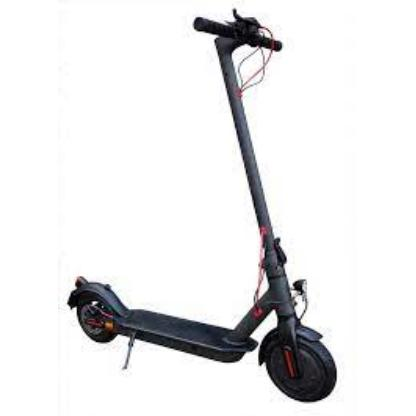bike: (66, 31, 338, 404)
